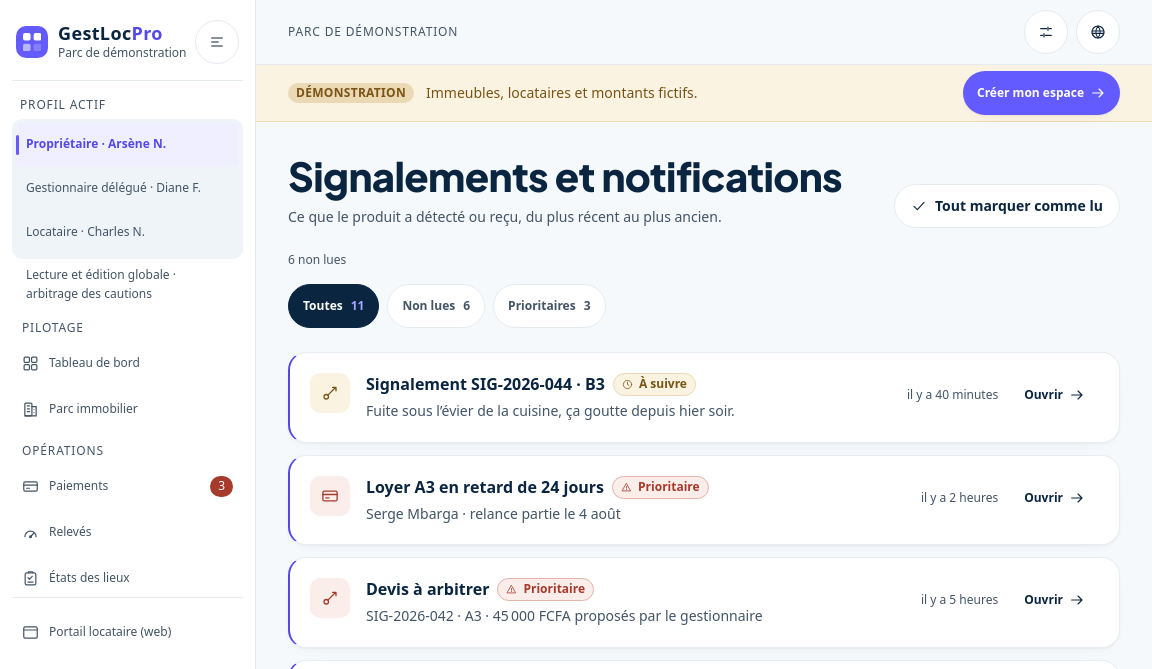
Test: le tri des signalements › revient à « Toutes » quand la lecture vide le filtre en cours
What coordinates should you click on to do the following:
click the button "Non lues 6"
I would click on:
 (436, 306)
Its box is [387, 284, 485, 328].
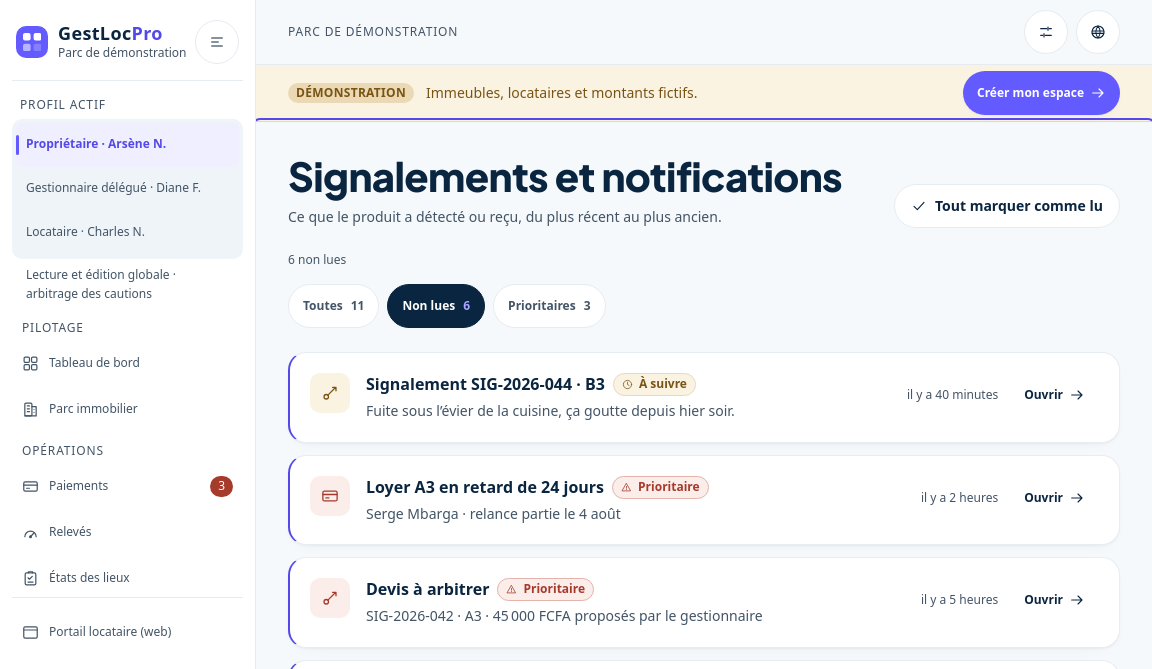
What coordinates should you click on to do the following:
click the button "Tout marquer comme lu"
I would click on:
 (1007, 206)
Its box is [894, 184, 1120, 228].
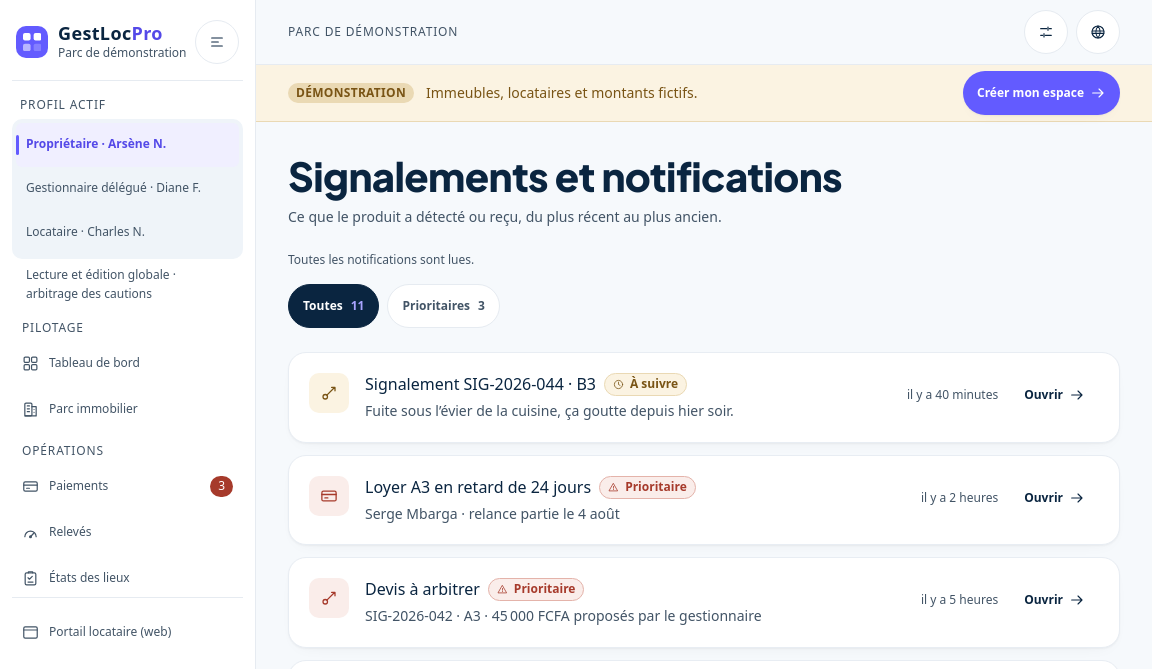
Expected: the list item that starts with "Signalement SIG-2026-044 · B3" is shown, [288, 352, 1120, 443]
Now the text "non lues" is gone
